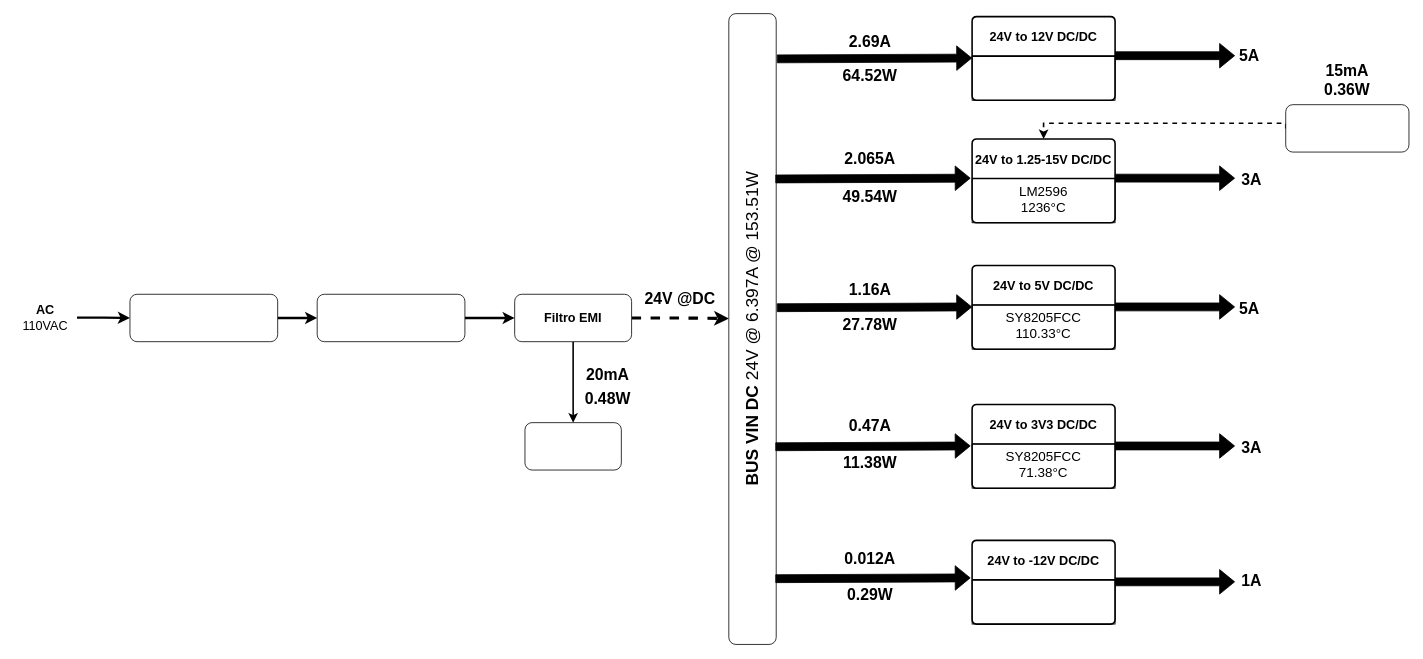
The diagram is 1423 pixels wide and 659 high, and some of its shapes have lost their labels. Here are the shapes that lost their labels. From the top down, the centre of each, then its label:
At (1043,77): "SY8205FCC 162.48°C".
At (1347,128): "Voltimetro digital".
At (203,317): "Transformador 110V / 18V@10A".
At (390,317): "Puente rectificador 25A @ 400V".
At (572,446): "Led testigo de encendido".
At (1043,601): "TPS54360 16.57°C".
